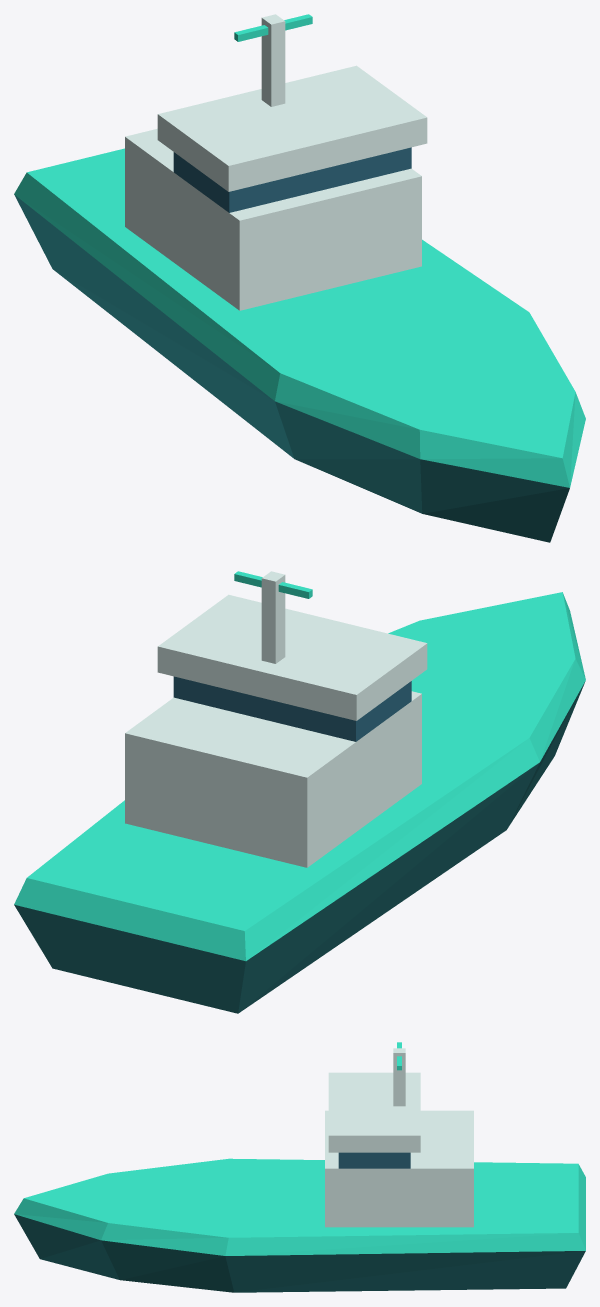
Rendered from amoh_ais_vessel.glb.
3 renders of one model, top to bottom at view 1: azimuth 30°, elevation 25°; view 2: azimuth 150°, elevation 25°; view 3: azimuth 270°, elevation 25°, orthographic. The views are drawn at different scales.
Size of the model in its own units: 16 by 18.5 by 46.
